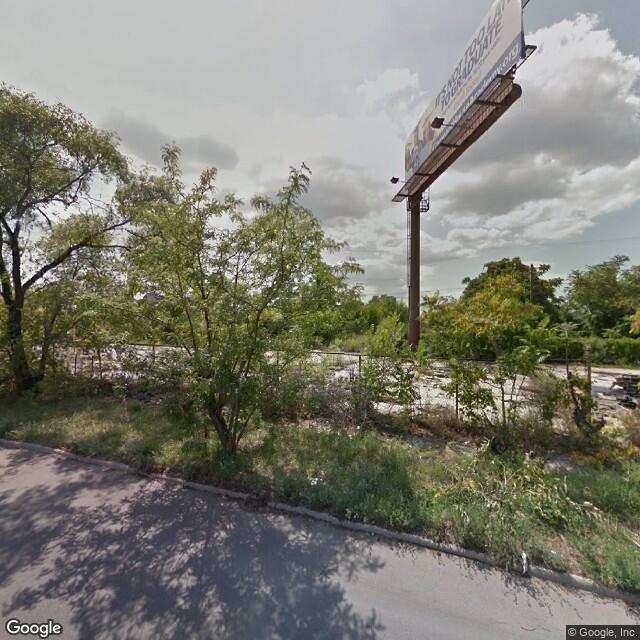litter: (308, 470, 329, 489), (519, 549, 530, 574)
